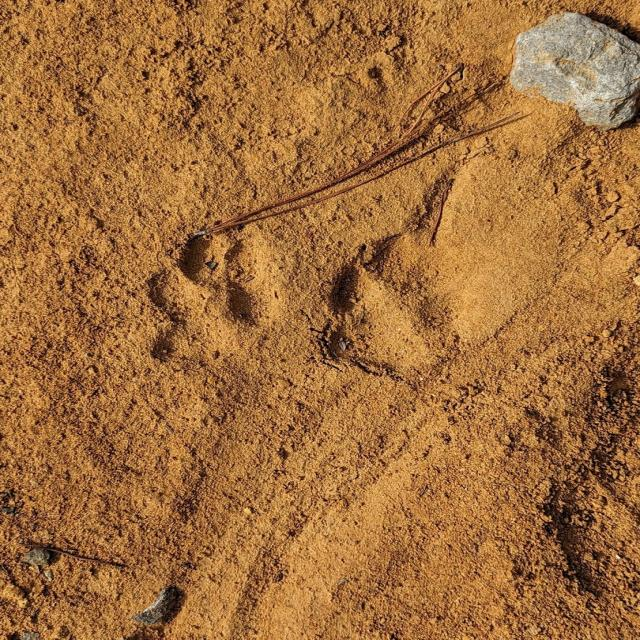canid: (325, 232, 460, 372), (153, 226, 278, 374)
